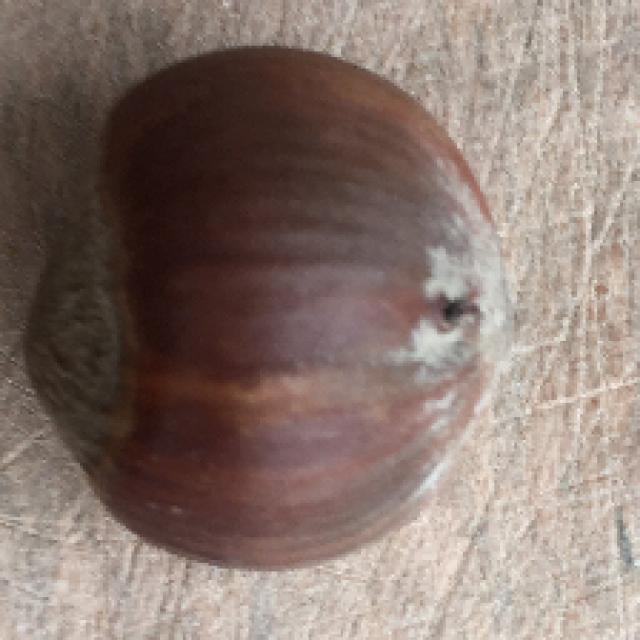damagedHazelnut: (26, 50, 518, 572)
